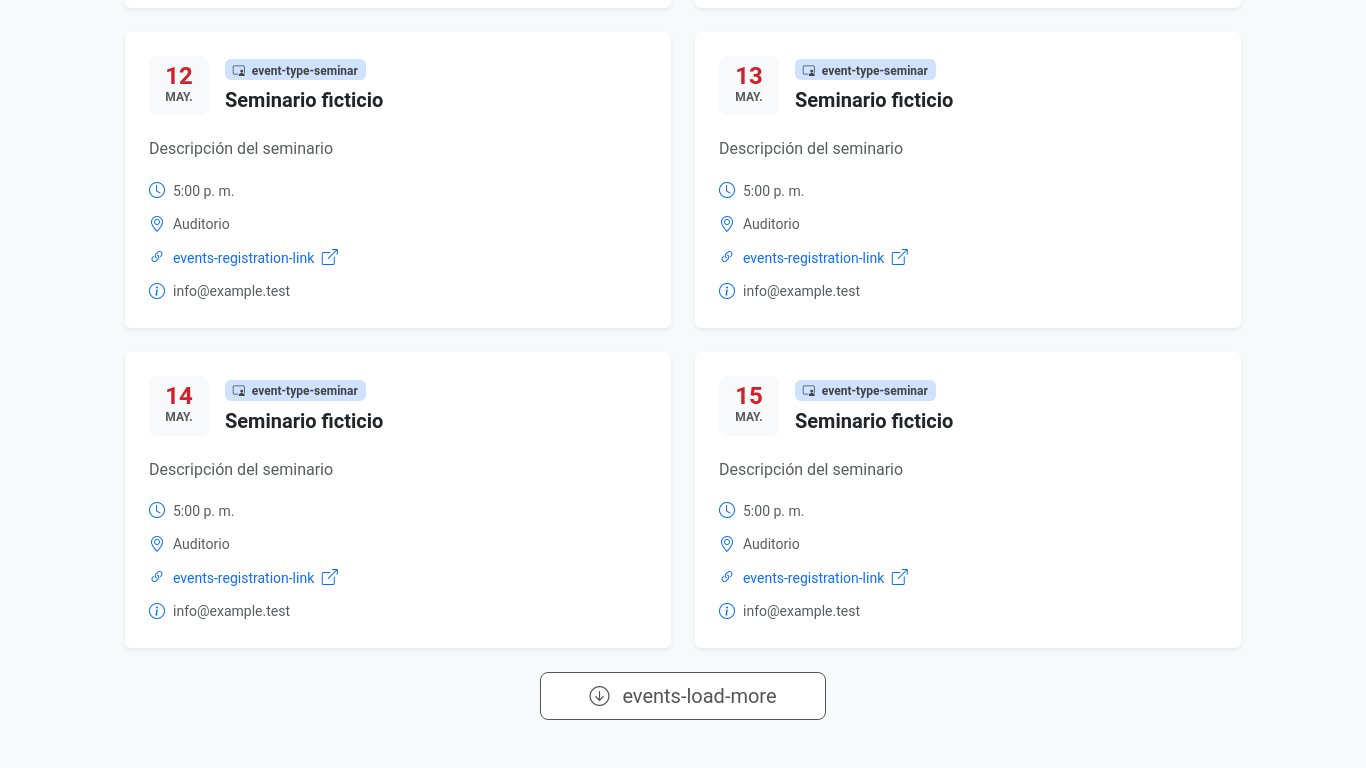
Test: EventsComponent › loads more events in pages
(page scrolled)
Click the button with class "btn-outline-primary" at (683, 696), box [540,672,826,720]
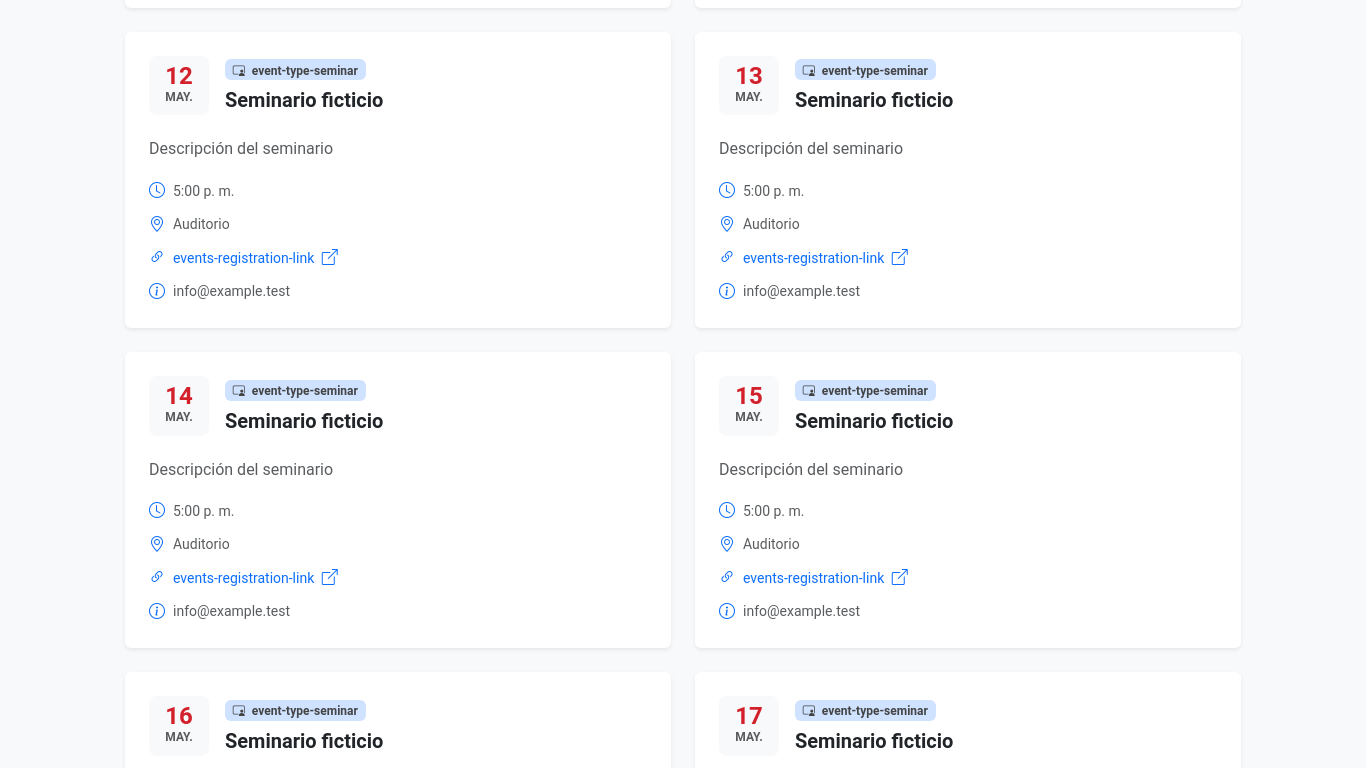
expect the button with class "btn-outline-primary" is gone: met
